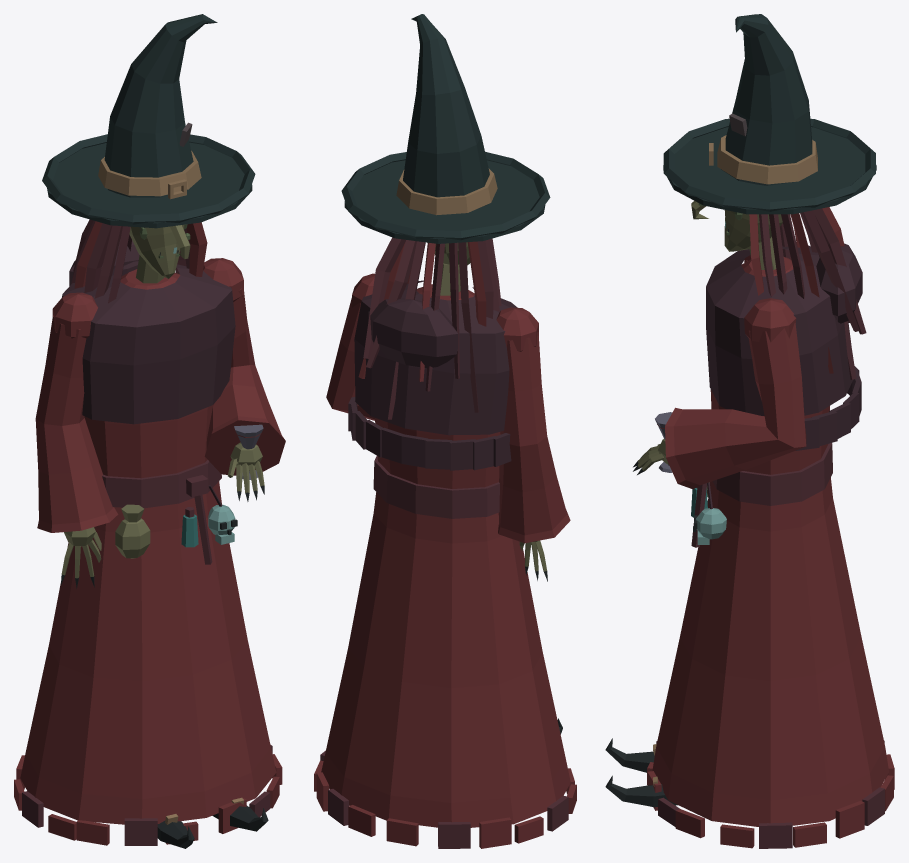
Rendered from vrajitoare_salon_3.glb.
The picture shows the model from 3 angles, left to right: view 1: azimuth 30°, elevation 25°; view 2: azimuth 150°, elevation 25°; view 3: azimuth 270°, elevation 25°; orthographic projection. The views are drawn at different scales.
Visible parts, largest first — view 1: Corp, Cap, BratDrept, BratStang; view 2: Corp, Cap, BratDrept, BratStang; view 3: Corp, Cap, BratStang.
Boxes of the visible parts, bbox=[...] form: Corp: bbox=[14, 240, 282, 848]; Cap: bbox=[42, 14, 255, 303]; BratDrept: bbox=[35, 292, 118, 588]; BratStang: bbox=[203, 258, 285, 501]; Corp: bbox=[314, 280, 576, 848]; Cap: bbox=[341, 14, 550, 419]; BratDrept: bbox=[496, 307, 570, 581]; BratStang: bbox=[326, 273, 374, 420]; Corp: bbox=[605, 243, 894, 848]; Cap: bbox=[663, 14, 876, 379]; BratStang: bbox=[633, 298, 806, 489].
Size of the model in its own units: 0.7037 by 2.22 by 0.7328.
